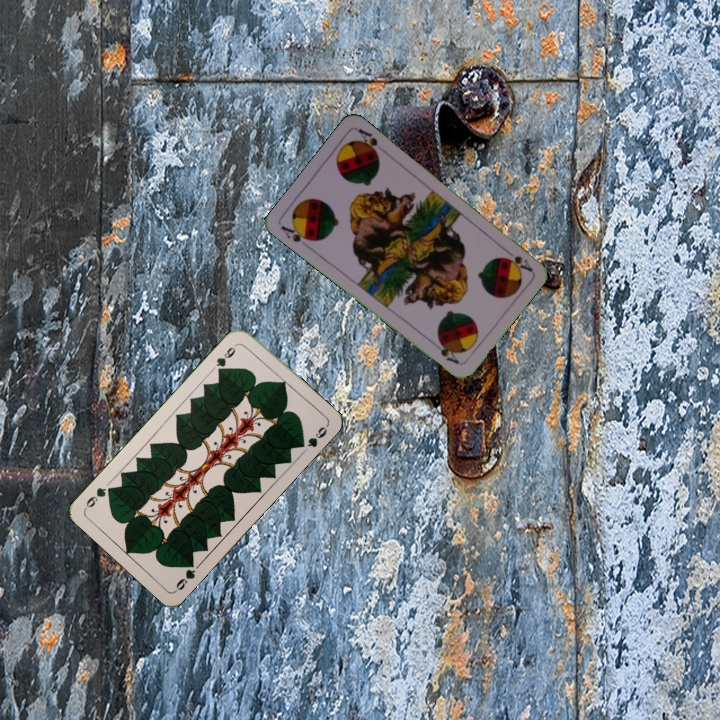G9: (211, 340, 240, 376), (171, 556, 198, 594)
SA: (499, 244, 535, 274), (277, 220, 316, 245)
